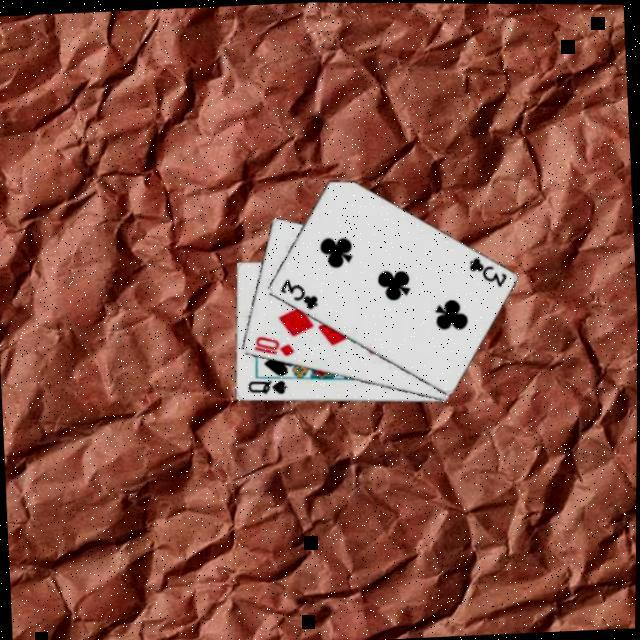10D: (252, 330, 298, 359)
3C: (277, 273, 322, 313), (466, 251, 511, 289)
QS: (246, 375, 292, 397)
